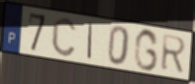0: (106, 24, 131, 67)
7: (27, 12, 48, 53)
C: (50, 16, 78, 59)
G: (132, 28, 160, 73)
I: (86, 21, 94, 61)
R: (160, 34, 188, 75)
